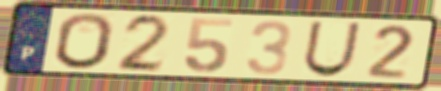2: (114, 13, 175, 74), (364, 23, 417, 81)
3: (245, 19, 294, 76)
5: (182, 16, 236, 74)
O: (53, 11, 116, 71)
U: (300, 19, 364, 79)
